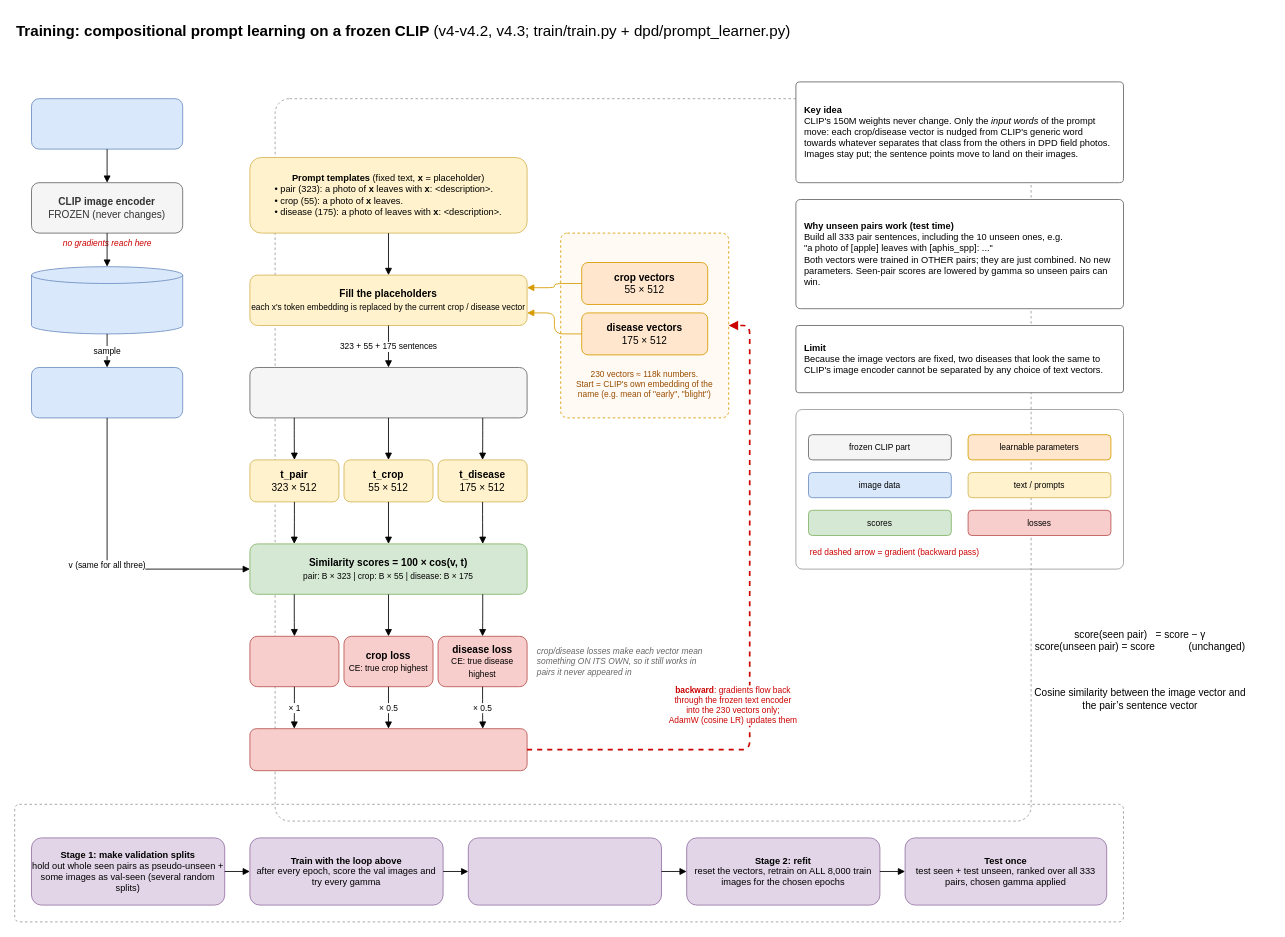
This 1285x937 diagram has some shape labels left out. Here are the shapes that lost their labels. From the top down, the box of each, then its label:
(31, 98, 183, 149): Training images 8,000 photos of 323 seen pairs
(31, 266, 183, 334): Cached image vectors 8,000 × 512 computed ONCE, saved in runs/cache/
(560, 232, 729, 418): LEARNABLE: the only trained parameters
(31, 367, 183, 418): Batch of image vectors v B × 512 (shuffled)
(249, 367, 527, 418): CLIP text encoder FROZEN (weights fixed, but gradients pass THROUGH it)
(274, 98, 1031, 821): ONE TRAINING STEP (repeated for every batch, every epoch)
(795, 409, 1124, 569): Legend
(249, 635, 339, 687): pair loss CE: true pair's sentence highest
(249, 728, 527, 771): Total loss = pair + 0.5 × crop + 0.5 × disease
(467, 837, 662, 905): Pick (epoch, gamma) with the best harmonic mean, averaged over the splits
(14, 803, 1124, 922): AROUND THE LOOP: choosing epochs and gamma without touching the test sets
